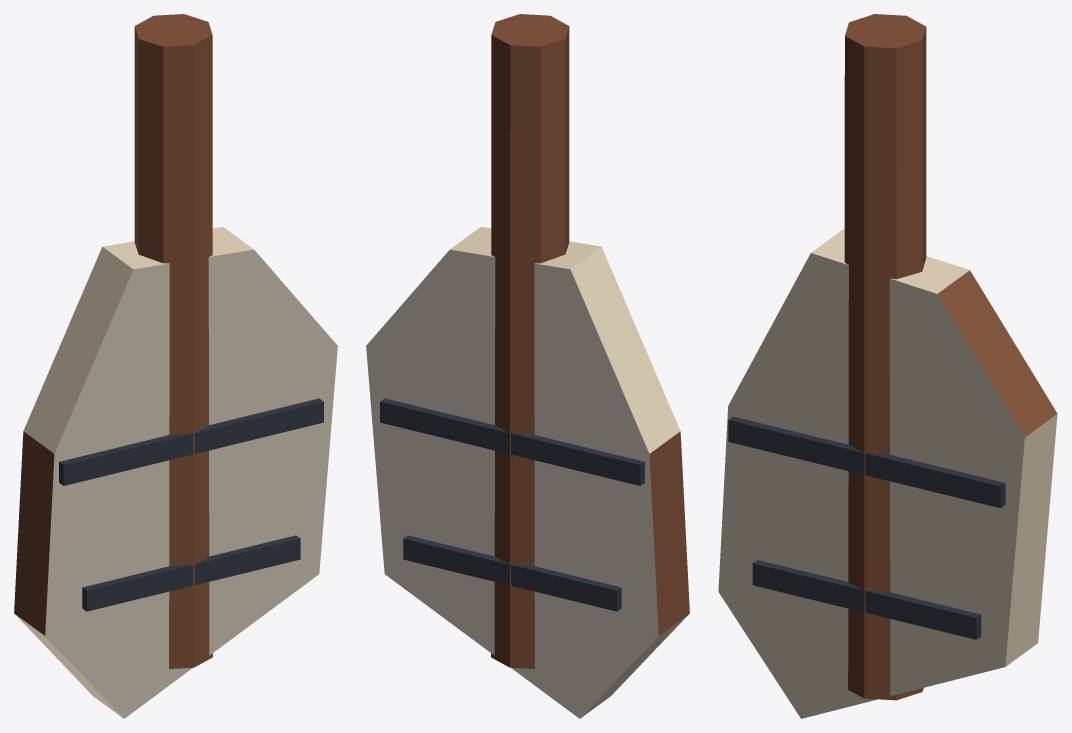
Rendered from Rudder_Blade.obj.
3 views of the same model, side by side, from view 1: azimuth 30°, elevation 25°; view 2: azimuth 150°, elevation 25°; view 3: azimuth 330°, elevation 25° (orthographic). The views are drawn at different scales.
Visible parts, largest first — view 1: Rudder_Blade; view 2: Rudder_Blade; view 3: Rudder_Blade.
Part boxes in pixels (x1=…): Rudder_Blade: x1=14, y1=14, x2=337, y2=718; Rudder_Blade: x1=366, y1=14, x2=689, y2=718; Rudder_Blade: x1=718, y1=14, x2=1057, y2=718.
Bounding box in the file's own units: 0.63 × 1.36 × 0.152.
Materials: 1 (1 with a texture image).
